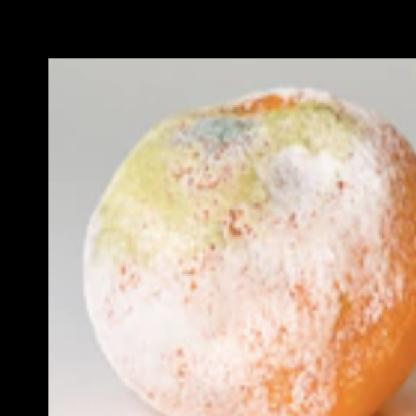rotten: (88, 88, 416, 416)
